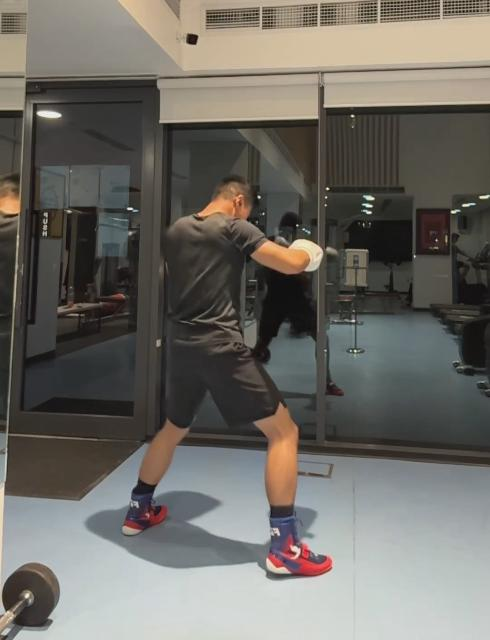punch: (119, 172, 333, 578)
